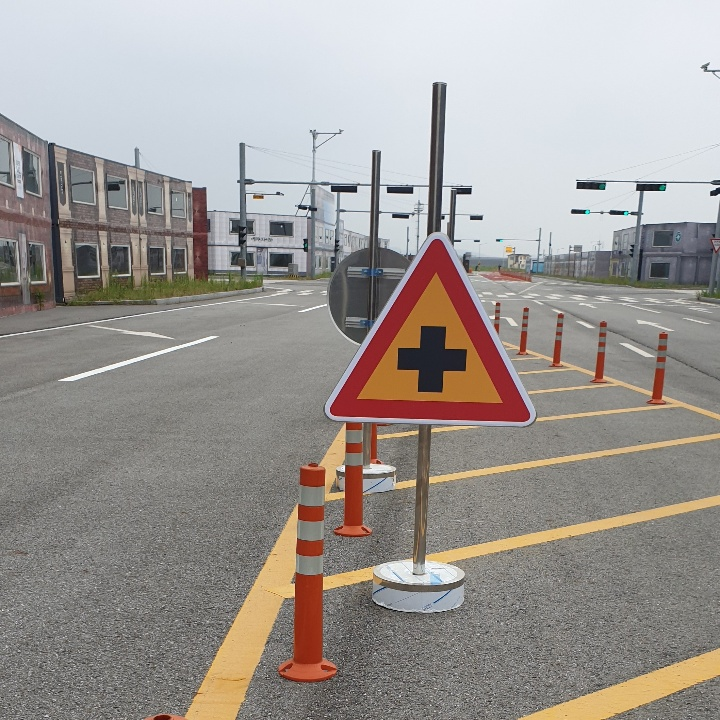inter: (391, 317, 473, 402)
